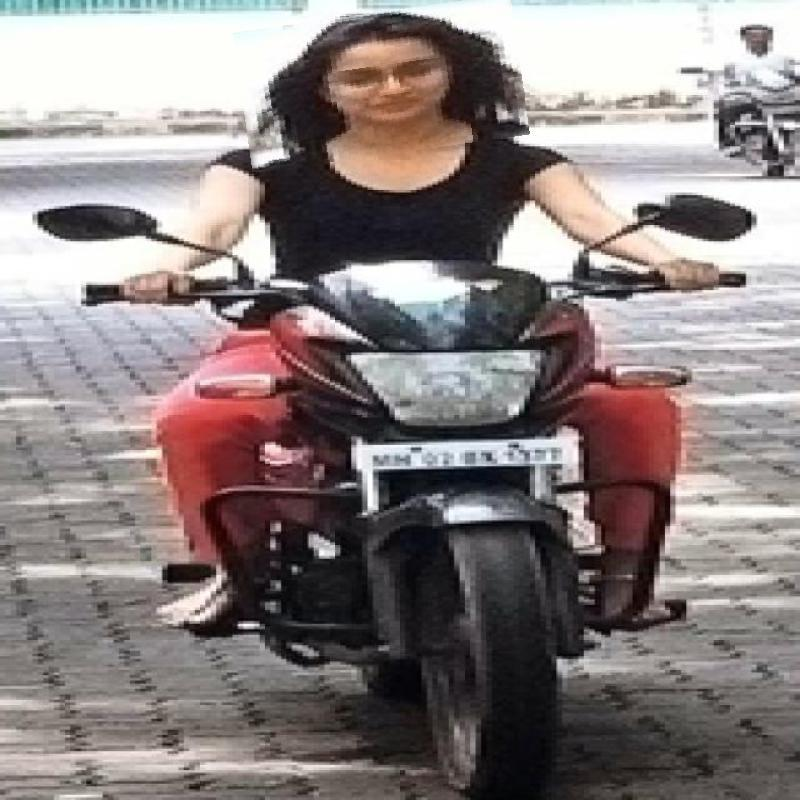nohelmet: (238, 2, 526, 164)
